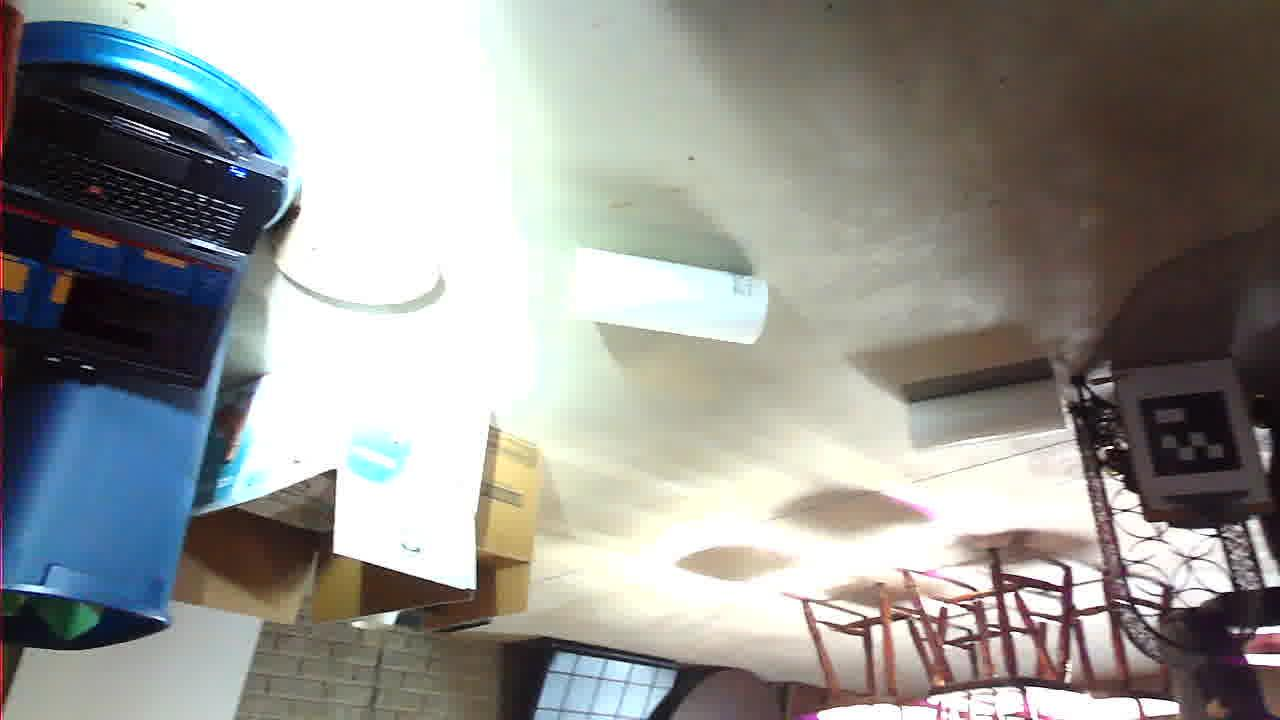coral: (514, 375, 704, 470), (216, 267, 371, 337)
